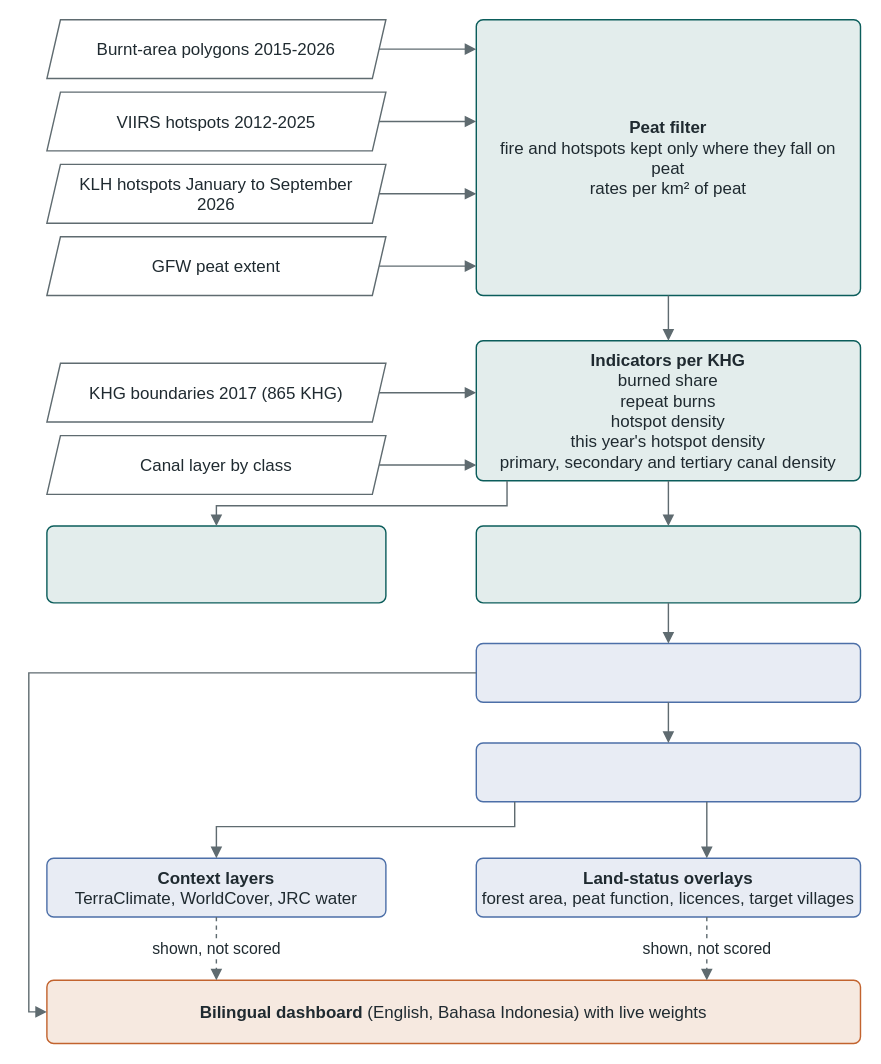
The diagram is 881 pixels wide and 1064 high, and some of its shapes have lost their labels. Each missing label, with the centre of its shape:
Held-out check indicators 2015-2022, tested on fire 2023-2025: pixel 216 564
Rank and tertile classes 476 KHG large enough to rank: pixel 668 672
Scale and weight 5th to 95th percentile, weighted mean (default weights): pixel 668 564
Shortlist top 25 + selected KHG (34 KHG): pixel 668 772
